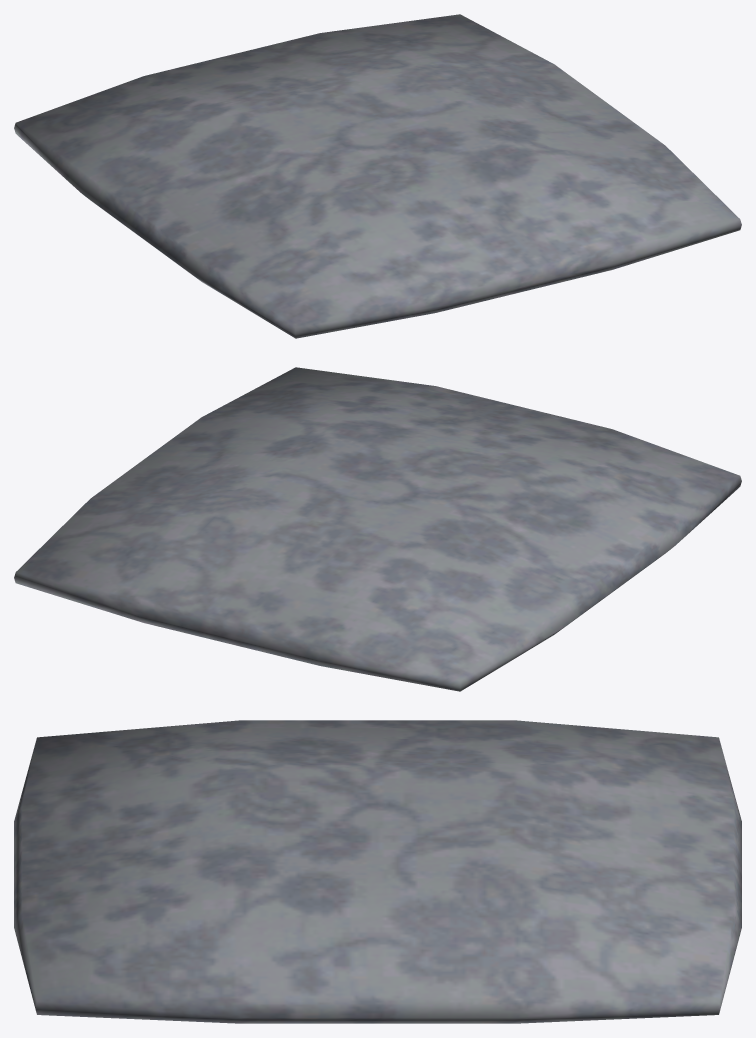
Rendered from wujian_yunmeng_07.FBX.
3 views of the same model, one above another, from view 1: azimuth 30°, elevation 25°; view 2: azimuth 150°, elevation 25°; view 3: azimuth 270°, elevation 25° (orthographic). The views are drawn at different scales.
Parts seen in each view (by area): view 1: Mesh_0035; view 2: Mesh_0035; view 3: Mesh_0035.
Boxes of the visible parts, x1,y1,x2,y2 form: Mesh_0035: (14, 14, 741, 338); Mesh_0035: (14, 367, 741, 691); Mesh_0035: (14, 720, 741, 1023).
Size of the model in its own units: 102 by 10.56 by 110.
